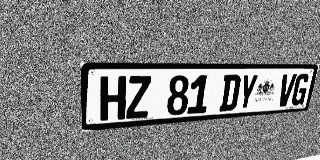1: (187, 75, 211, 114)
8: (166, 75, 191, 116)
D: (219, 74, 242, 112)
G: (290, 74, 311, 106)
H: (100, 76, 126, 121)
V: (276, 74, 297, 107)
Y: (236, 74, 259, 110)
Z: (126, 76, 151, 119)
